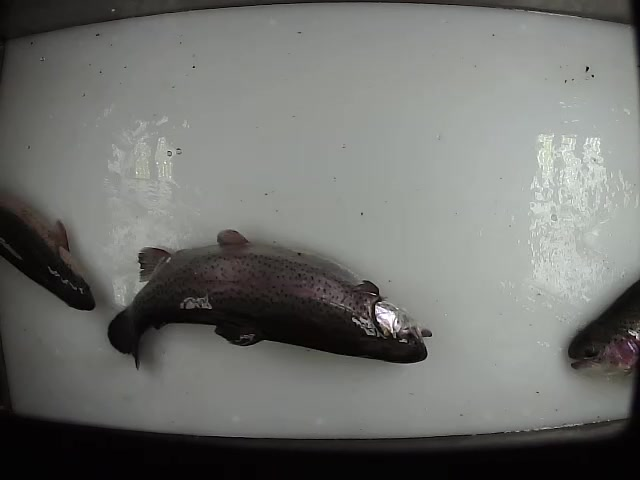fish: (105, 227, 434, 373), (1, 191, 97, 312), (567, 281, 640, 372)
